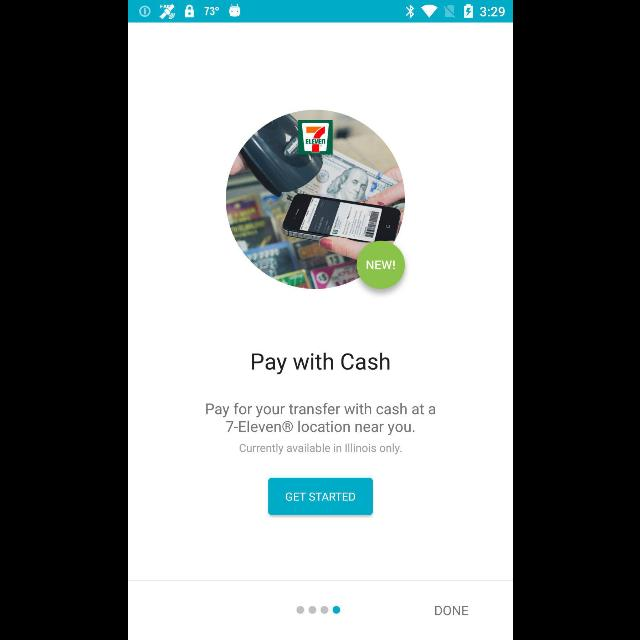image: (225, 110, 405, 290)
pageindicator: (296, 606, 340, 614)
text: (206, 402, 434, 436), (251, 353, 389, 375), (239, 443, 401, 455), (434, 606, 468, 616)
textbutton: (268, 477, 372, 515)
uppertaskbar: (128, 1, 512, 23)
